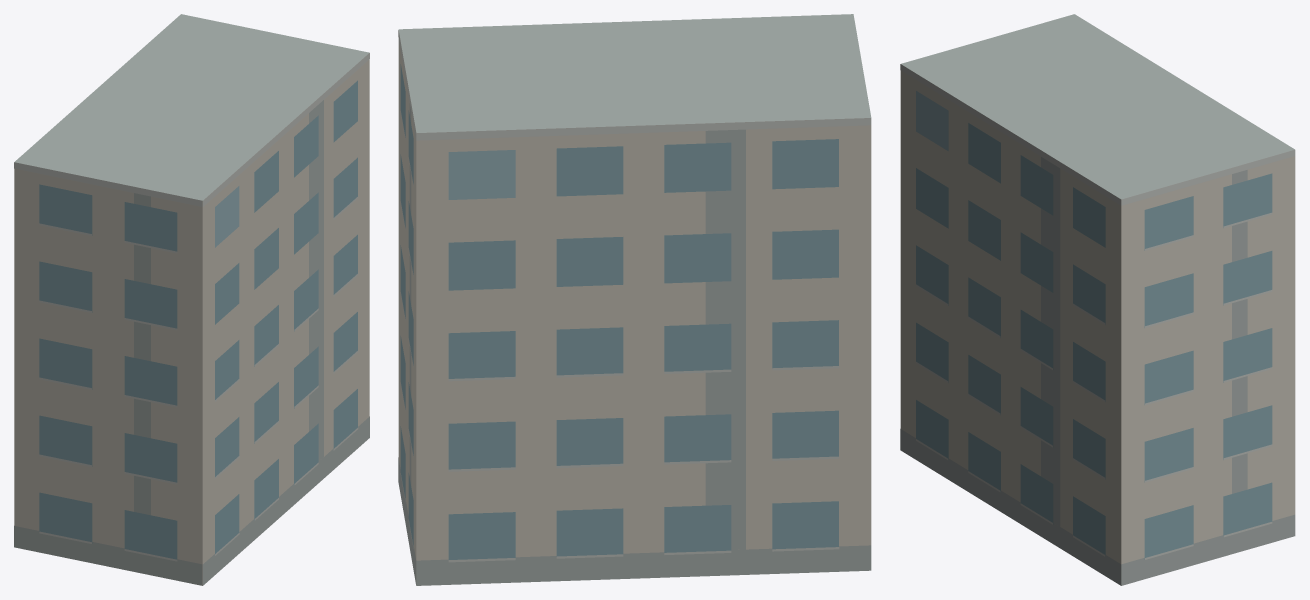
The model's file is survey-upis-32971647.glb.
3 renders of one model, left to right at view 1: azimuth 30°, elevation 25°; view 2: azimuth 150°, elevation 25°; view 3: azimuth 270°, elevation 25°, orthographic. The views are drawn at different scales.
Parts seen in each view (by area): view 1: survey-upis-32971647.tmp; view 2: survey-upis-32971647.tmp; view 3: survey-upis-32971647.tmp.
Boxes of the visible parts, box(x1,y1,x2,y2) form: survey-upis-32971647.tmp: box(14, 14, 369, 585); survey-upis-32971647.tmp: box(398, 14, 871, 585); survey-upis-32971647.tmp: box(900, 14, 1295, 585).
Bounding box in the file's own units: 15.25 × 14.8 × 13.72.
